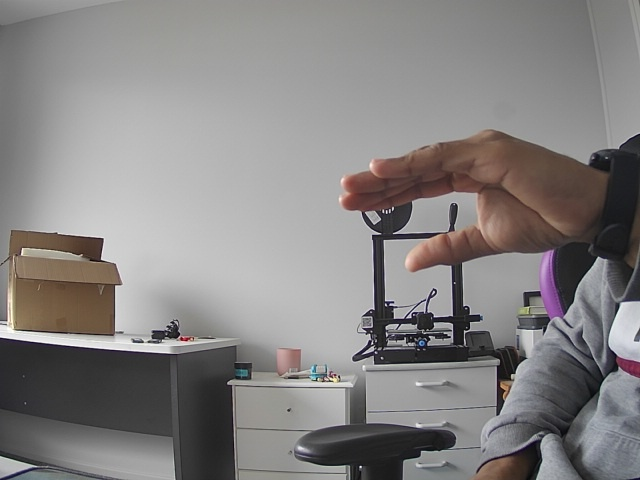No: (301, 94, 613, 279)
